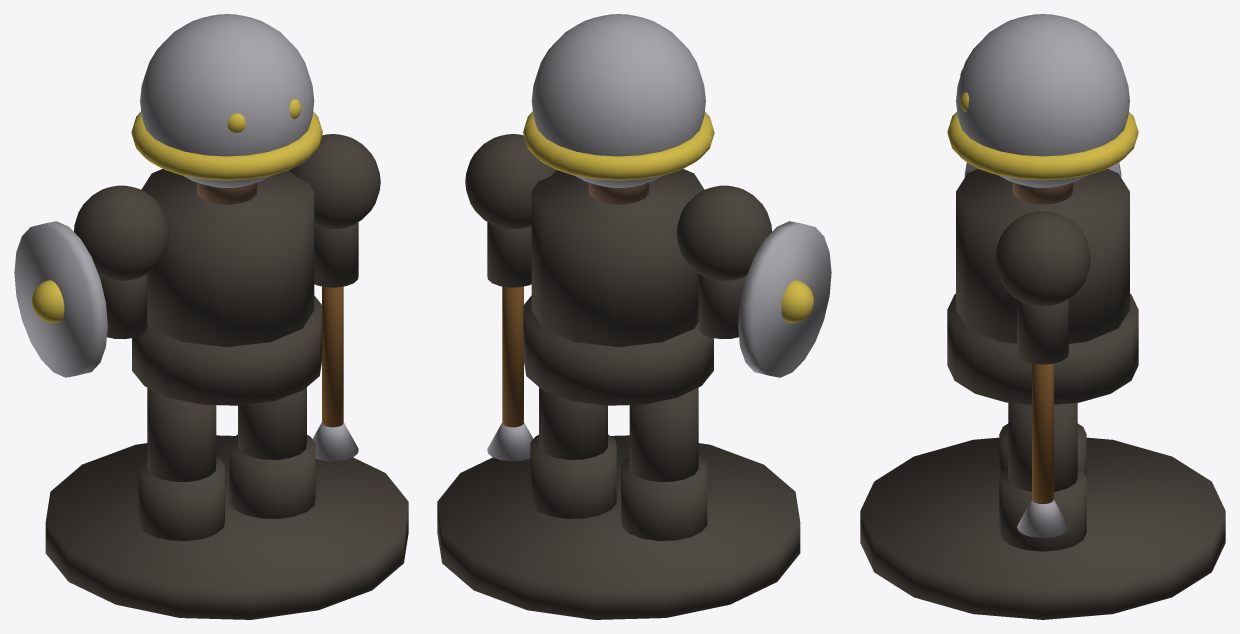
File: Totd.glb
3 renders of one model, left to right at view 1: azimuth 30°, elevation 25°; view 2: azimuth 150°, elevation 25°; view 3: azimuth 270°, elevation 25°, orthographic.
Visible parts, largest first — view 1: B_Pawn; view 2: B_Pawn; view 3: B_Pawn.
Part boxes in pixels (left/top/right/bottom): B_Pawn: left=14, top=14, right=408, bottom=619; B_Pawn: left=437, top=14, right=831, bottom=619; B_Pawn: left=860, top=14, right=1225, bottom=619.
Bounding box in the file's own units: 0.93 × 1.32 × 0.84.
